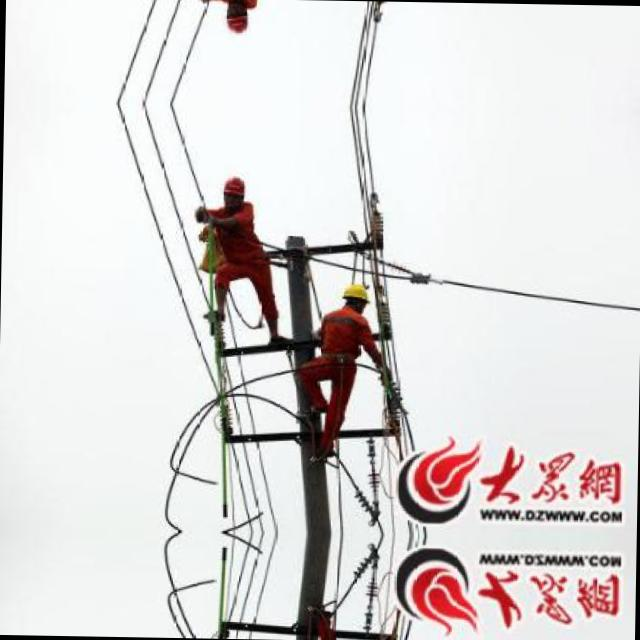helmet: (337, 278, 372, 311), (218, 173, 248, 208), (221, 1, 251, 36)
